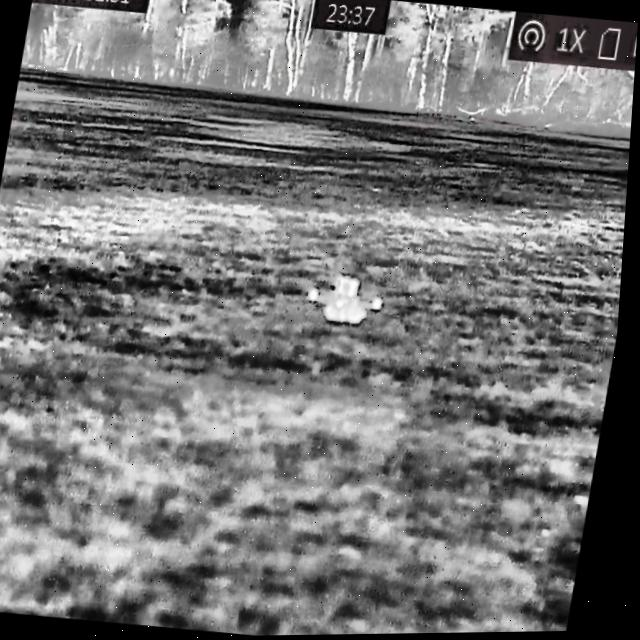drone: (307, 270, 391, 331)
